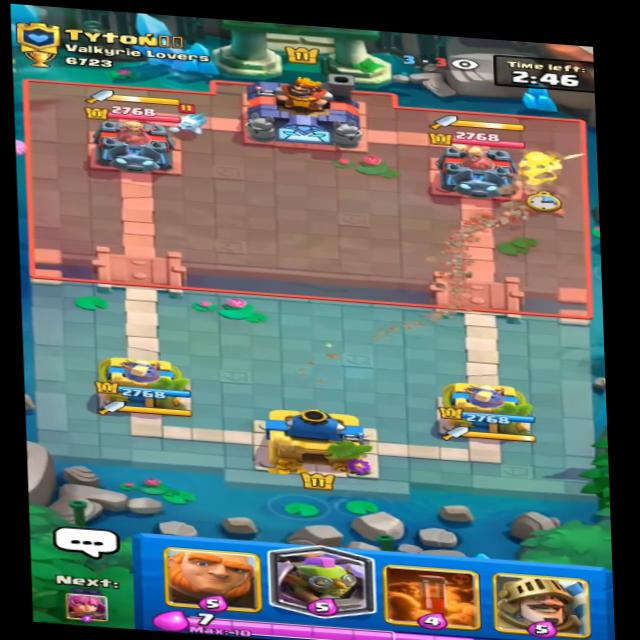ice-spirit: (170, 106, 213, 136)
